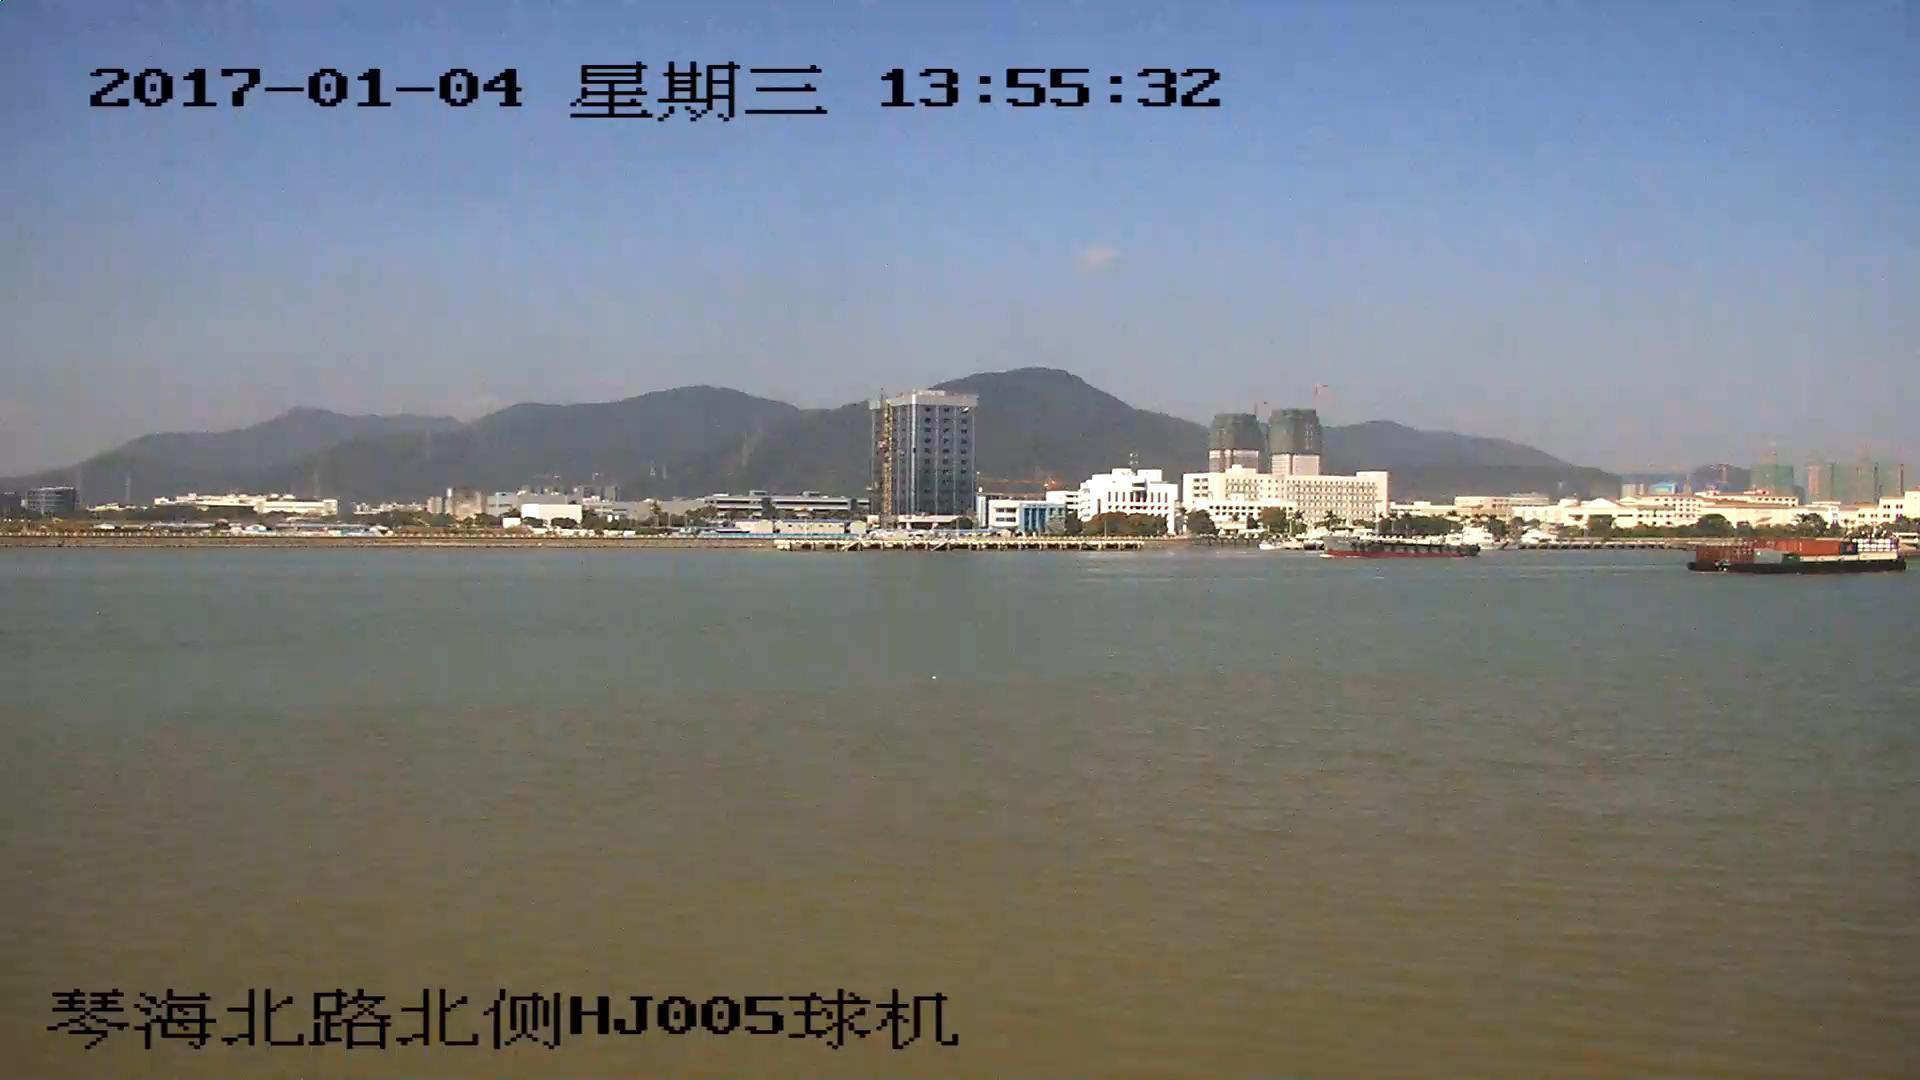Ship: (1692, 534, 1904, 574), (1329, 529, 1474, 559)
